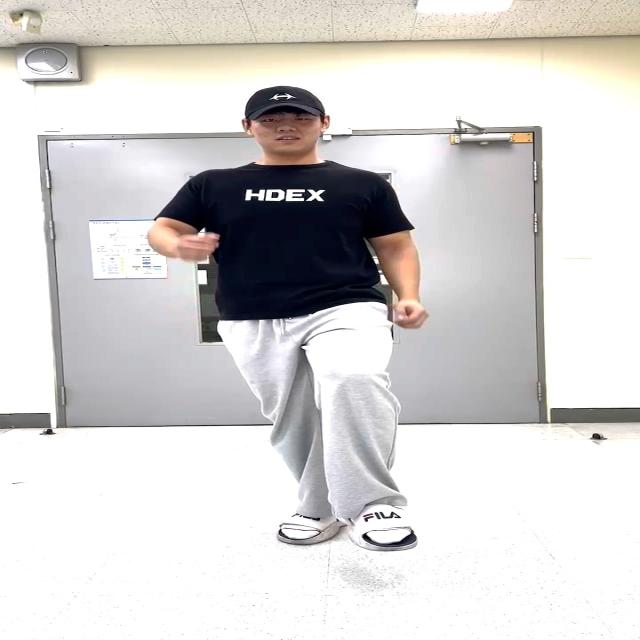leg: (309, 316, 418, 542)
